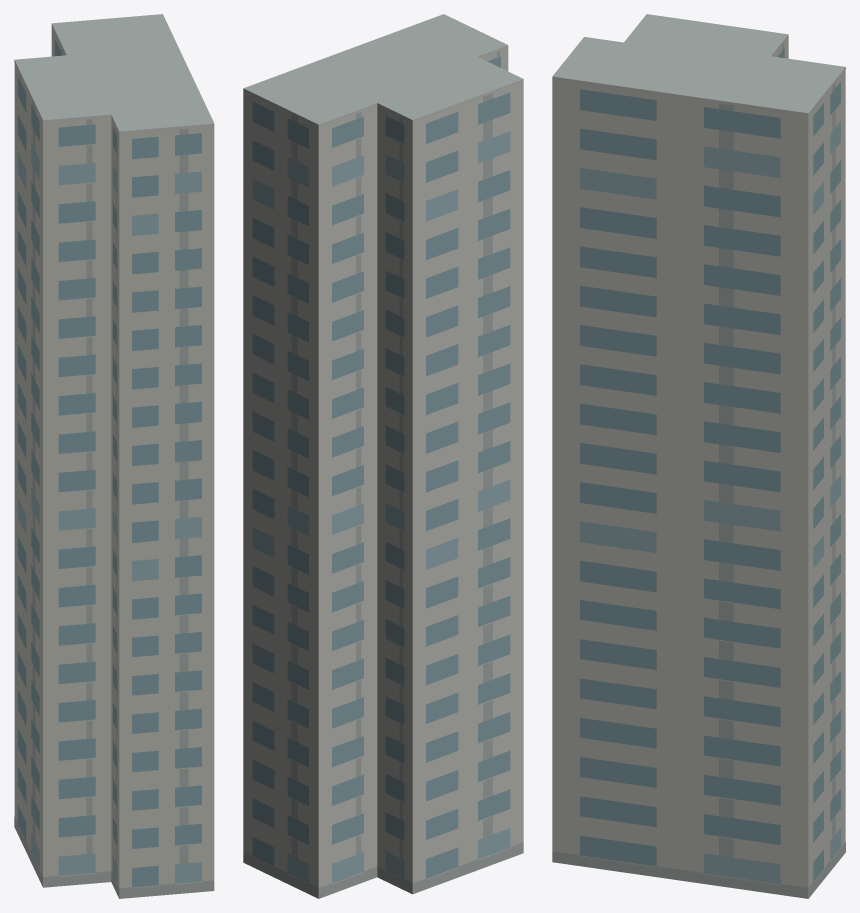
Rendered from residential-8aa9bba0-267c-405a-8610-c4314c00a332.glb.
The picture shows the model from 3 angles, left to right: view 1: azimuth 30°, elevation 25°; view 2: azimuth 150°, elevation 25°; view 3: azimuth 270°, elevation 25°; orthographic projection. The views are drawn at different scales.
Visible parts, largest first — view 1: residential-8aa9bba0-267c-405a-8610-c4314c00a332.tmp; view 2: residential-8aa9bba0-267c-405a-8610-c4314c00a332.tmp; view 3: residential-8aa9bba0-267c-405a-8610-c4314c00a332.tmp.
Part boxes in pixels (bbox=[...]): residential-8aa9bba0-267c-405a-8610-c4314c00a332.tmp: bbox=[14, 14, 214, 898]; residential-8aa9bba0-267c-405a-8610-c4314c00a332.tmp: bbox=[243, 14, 523, 898]; residential-8aa9bba0-267c-405a-8610-c4314c00a332.tmp: bbox=[552, 14, 845, 898].
Size of the model in its own units: 18.17 by 67 by 22.7.
